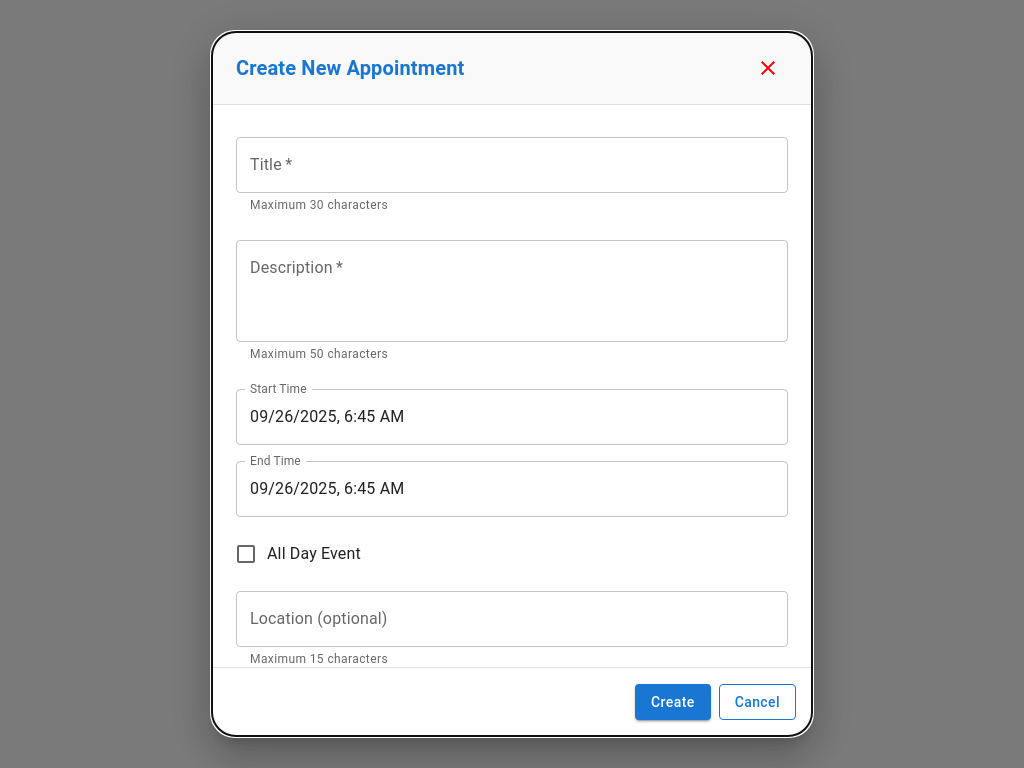
Test: AppointmentForm Component › validates form and shows errors for empty required fields
This screenshot has width=1024, height=768.
Note: Submit the form
Click the button "Create": click(673, 702) [635, 684, 711, 720]
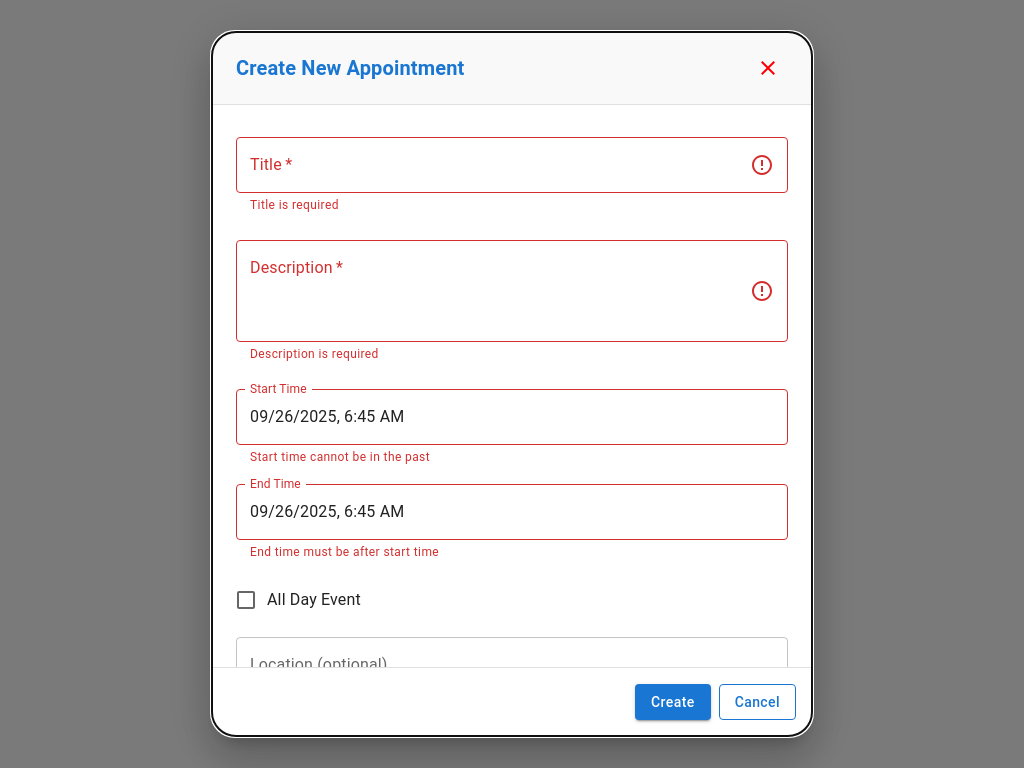
Now the text "Title is required" is shown, box [250, 198, 339, 212]
Now the text "Description is required" is shown, box [250, 347, 379, 361]
